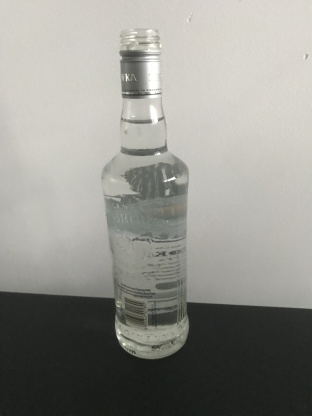nakretka: (117, 26, 163, 99)
